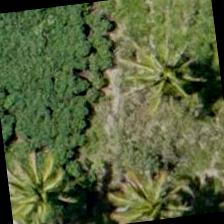Kelapa_Sawit: (119, 26, 219, 126), (3, 137, 87, 223), (106, 159, 203, 223)
